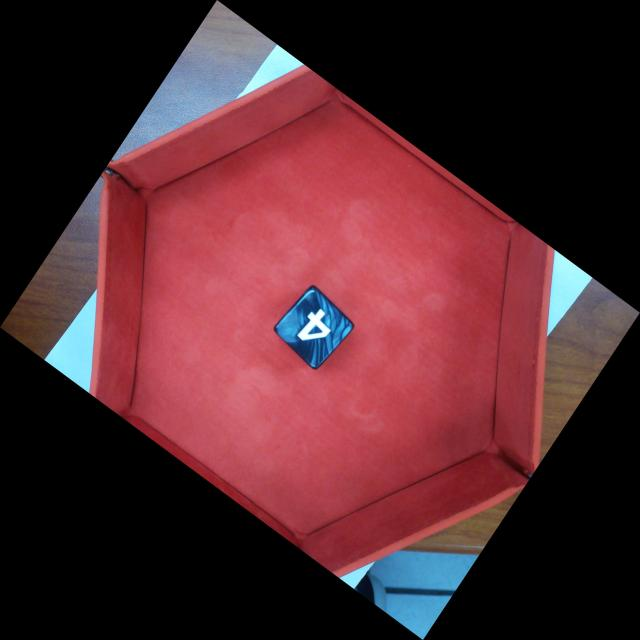dice: (270, 284, 358, 374)
